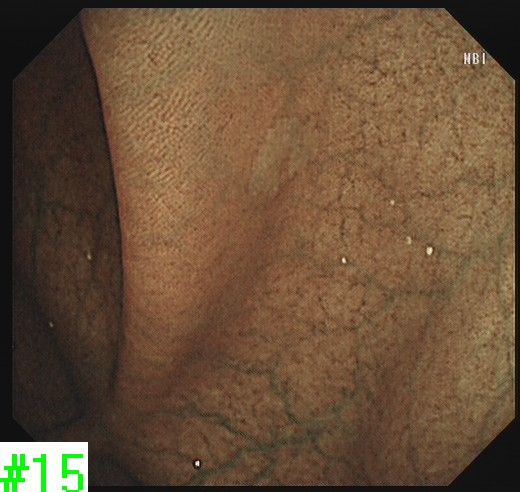others: (244, 113, 323, 202)
